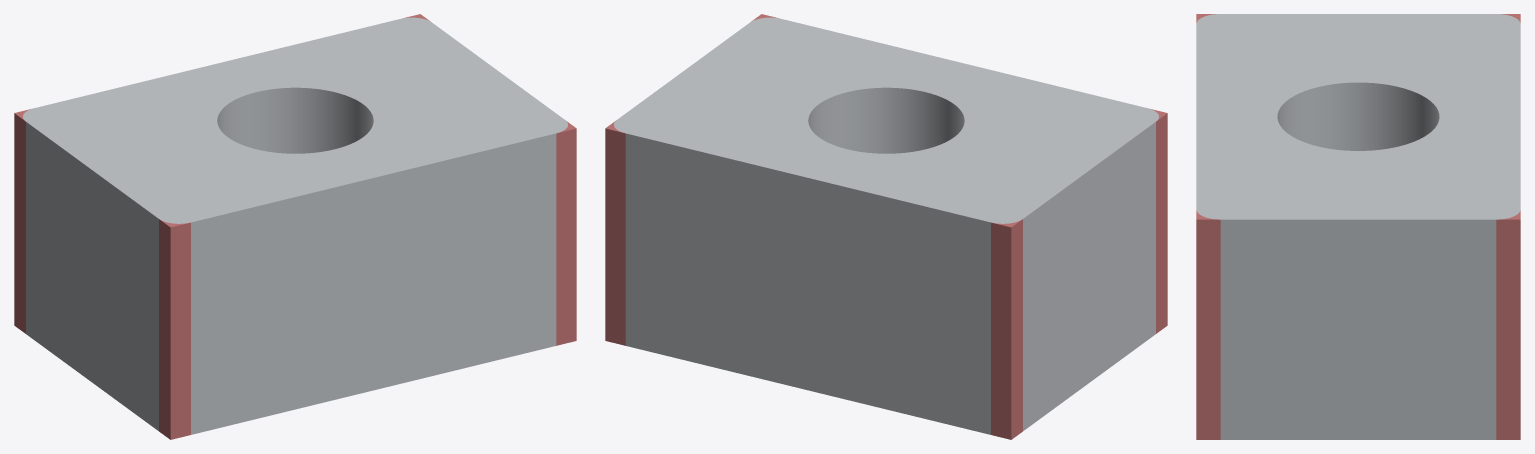
Rendered from step_03.glb.
3 renders of one model, left to right at view 1: azimuth 30°, elevation 25°; view 2: azimuth 150°, elevation 25°; view 3: azimuth 270°, elevation 25°, orthographic. The views are drawn at different scales.
Parts seen in each view (by area): view 1: part__housing, removed__housing; view 2: part__housing, removed__housing; view 3: part__housing, removed__housing.
Part boxes in pixels (x1,y1,x2,y2): part__housing: (23,17,567,434); removed__housing: (14,14,576,439); part__housing: (614,17,1158,434); removed__housing: (605,14,1167,439); part__housing: (1196,14,1520,439); removed__housing: (1196,14,1520,439).
Size of the model in its own units: 60 by 30 by 40.
